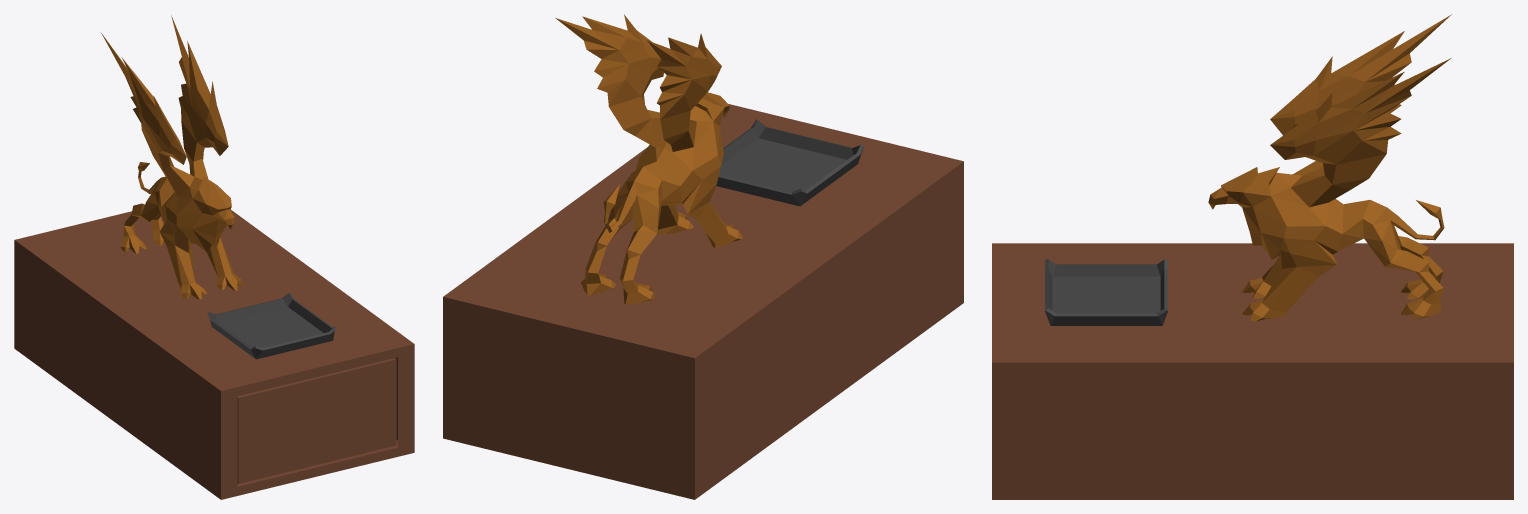
File: Griffin Box.fbx
The picture shows the model from 3 angles, left to right: view 1: azimuth 30°, elevation 25°; view 2: azimuth 150°, elevation 25°; view 3: azimuth 270°, elevation 25°; orthographic projection. The views are drawn at different scales.
Visible parts, largest first — view 1: Outer Box, Griffin, Inner Box, Plane.002; view 2: Outer Box, Griffin, Plane.002; view 3: Outer Box, Griffin, Plane.002.
Boxes of the visible parts, x1,y1,x2,y2 form: Outer Box: (14, 210, 414, 499); Griffin: (101, 15, 244, 299); Inner Box: (237, 358, 396, 483); Plane.002: (207, 292, 337, 359); Outer Box: (443, 104, 963, 499); Griffin: (555, 14, 742, 304); Plane.002: (716, 119, 864, 206); Outer Box: (992, 243, 1513, 499); Griffin: (1208, 14, 1451, 321); Plane.002: (1045, 259, 1167, 325).
Size of the model in its own units: 368 by 582 by 681.
